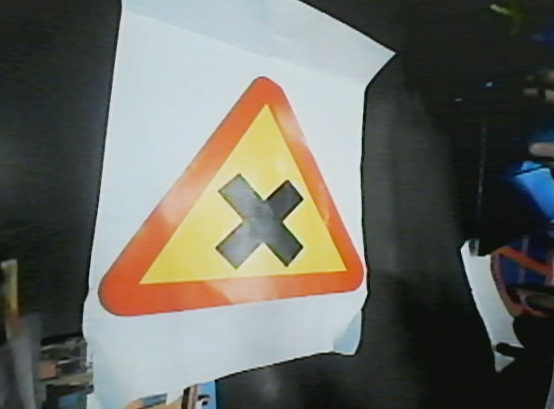junction: (81, 52, 370, 322)
